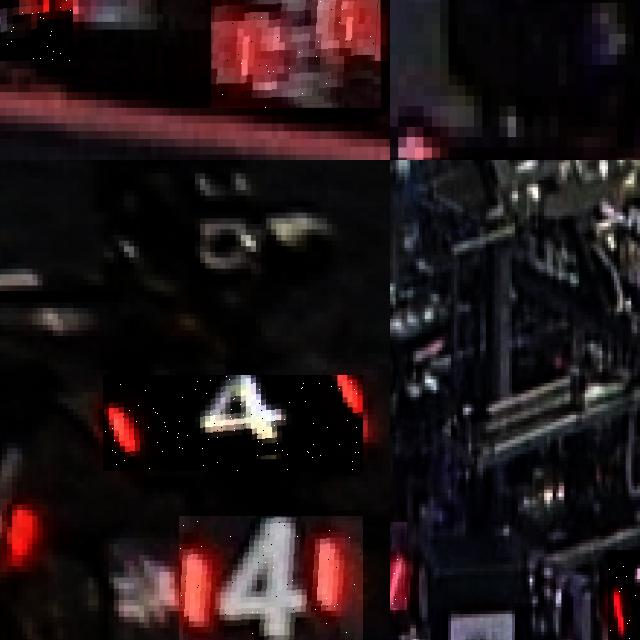R2: (607, 550, 640, 640), (390, 521, 407, 610)
R3: (211, 0, 380, 107), (0, 0, 72, 61)
R4: (103, 375, 363, 471), (179, 515, 362, 640), (0, 442, 42, 577)
